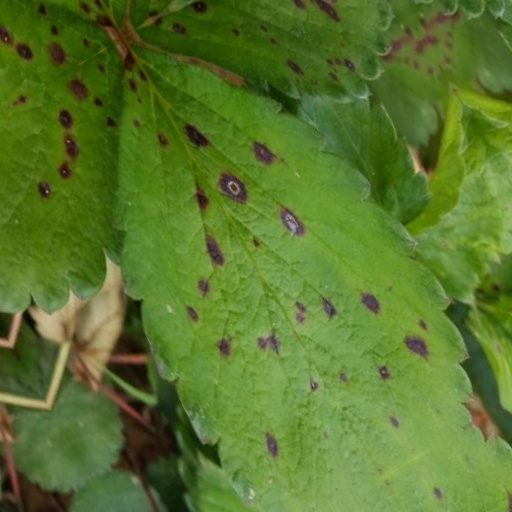Leaf Spot: (111, 0, 404, 505), (0, 305, 249, 511), (269, 334, 511, 511), (431, 261, 511, 409), (403, 0, 511, 100), (421, 81, 511, 166)
